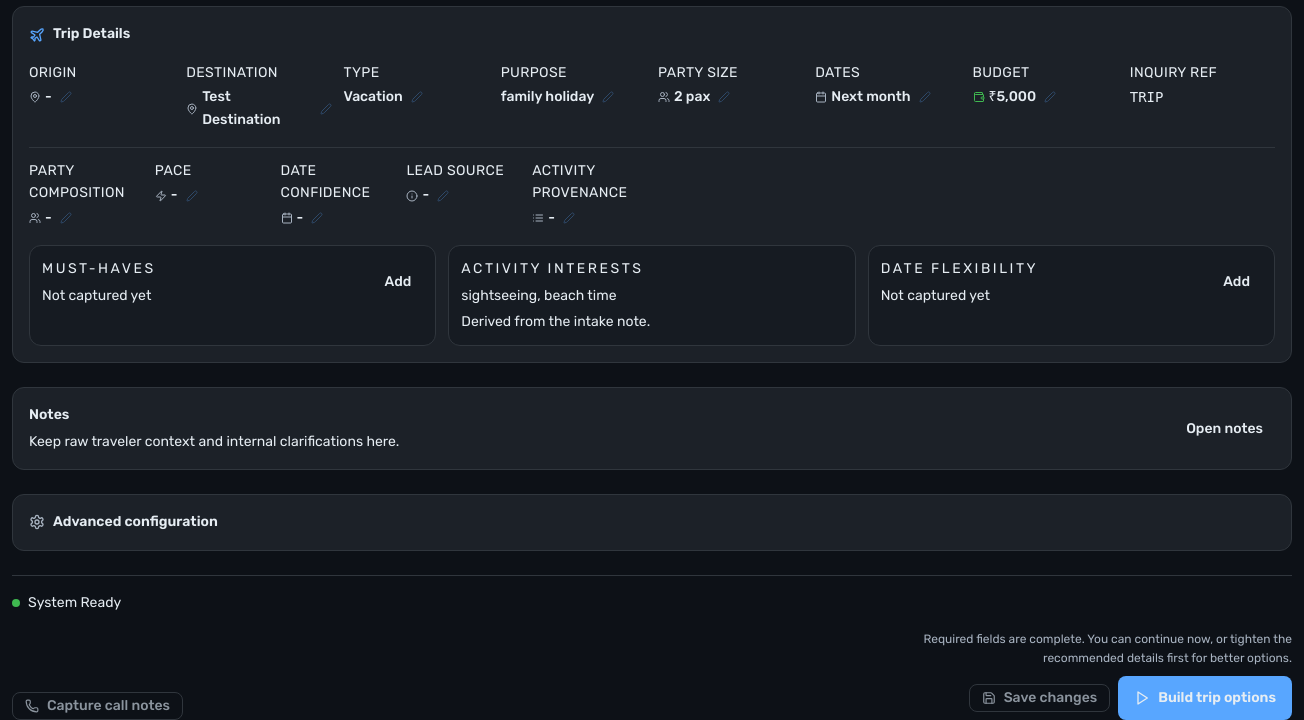
Test case: IntakePanel › renders correctly with trip details
(page scrolled)
Expected: the text "Test Destination" is shown, left=186, top=86, right=332, bottom=131
Expected: the text "Purpose" is shown, left=501, top=64, right=567, bottom=81
# Check if test inputs are passed to textareas
Click the button "Open notes": [1225, 429] box left=1174, top=415, right=1275, bottom=443
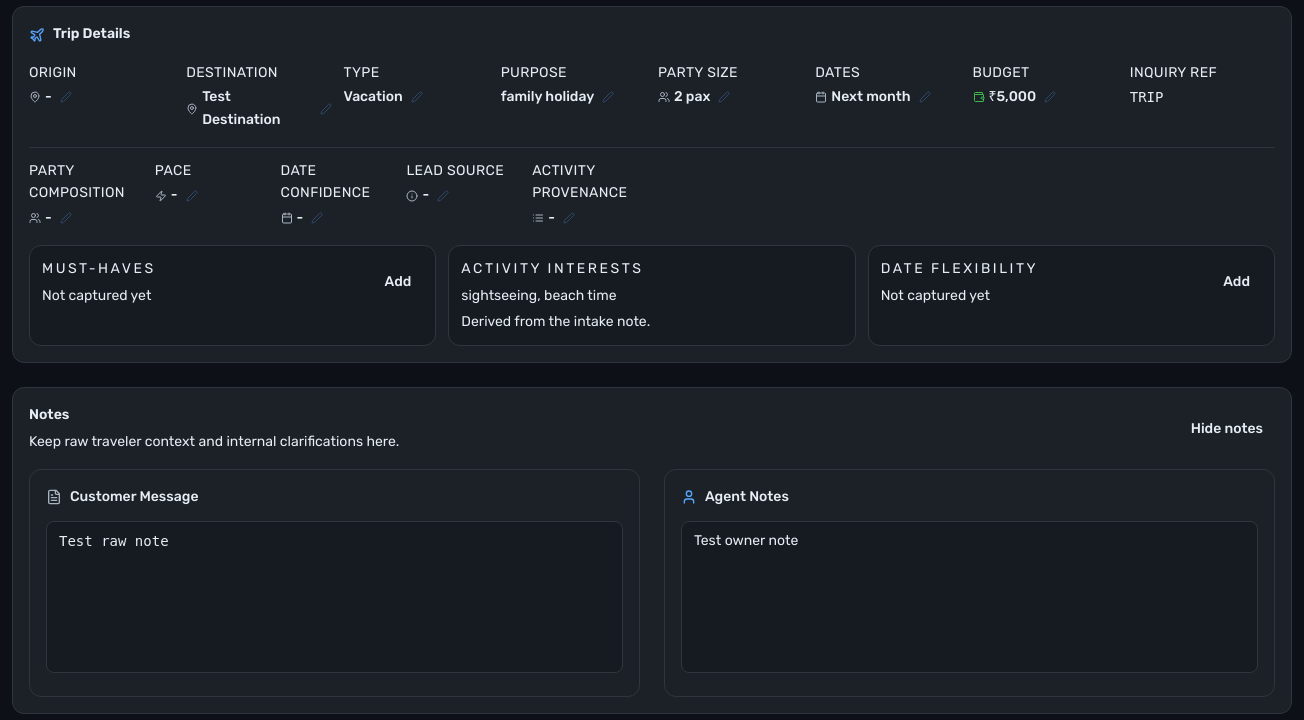
Expected: the text box showing "Test raw note" is shown, left=46, top=521, right=623, bottom=673
Expected: the text box showing "Test owner note" is shown, left=681, top=521, right=1258, bottom=673
